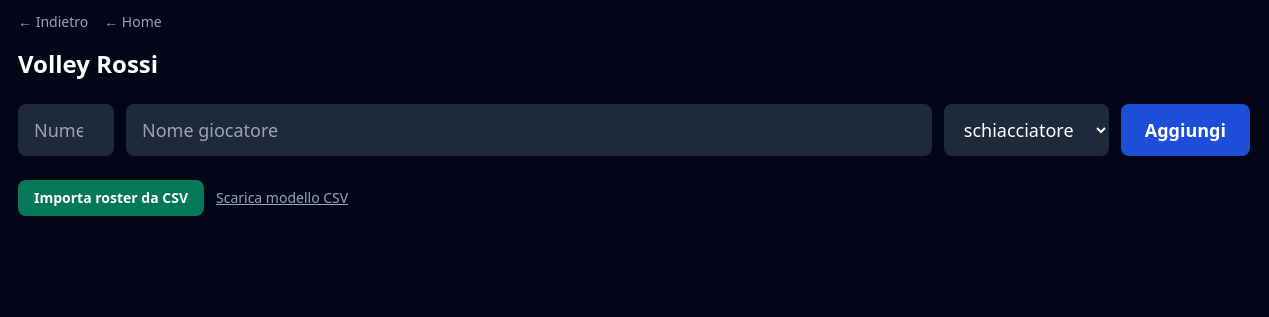
Test: PlayerRosterEditor › aggiunge un giocatore al roster e lo mostra
The width and height of the screenshot is (1269, 317).
Type "7" into the number field with placeholder "Numero" at (66, 130), box 18,104 -> 114,156
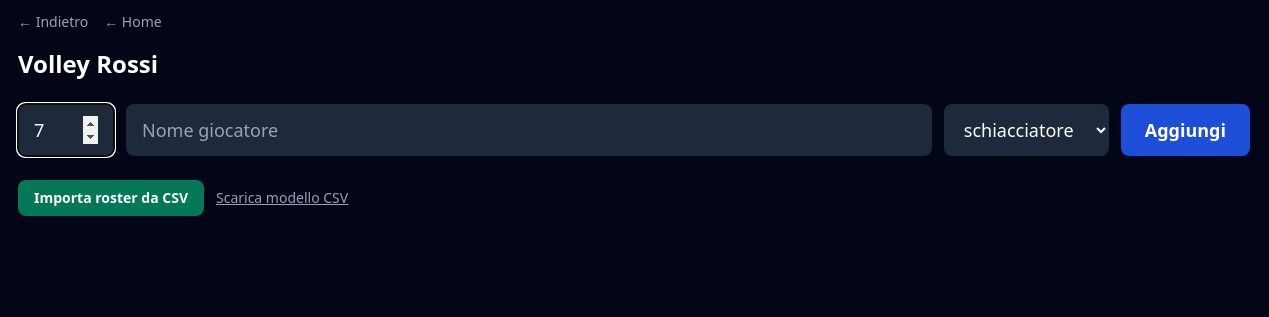
Type "Bianchi" into the field with placeholder "Nome giocatore" at (529, 130), box 126,104 -> 932,156
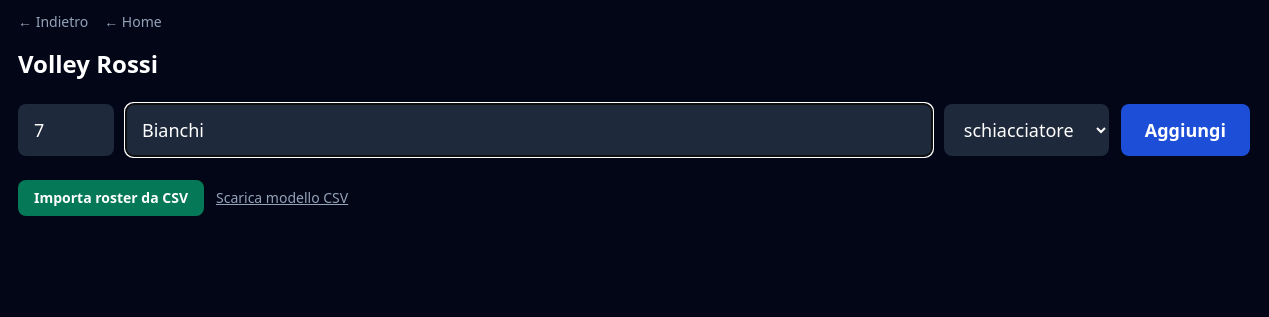
Click the button "Aggiungi" at (1185, 130), box 1121,104 -> 1250,156
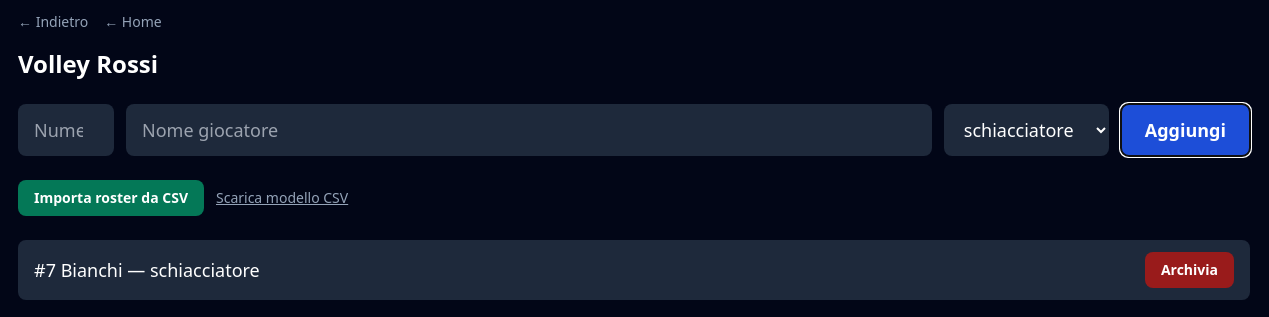
Expected: the text "#7 Bianchi — schiacciatore" is shown, 34,256 -> 260,284
